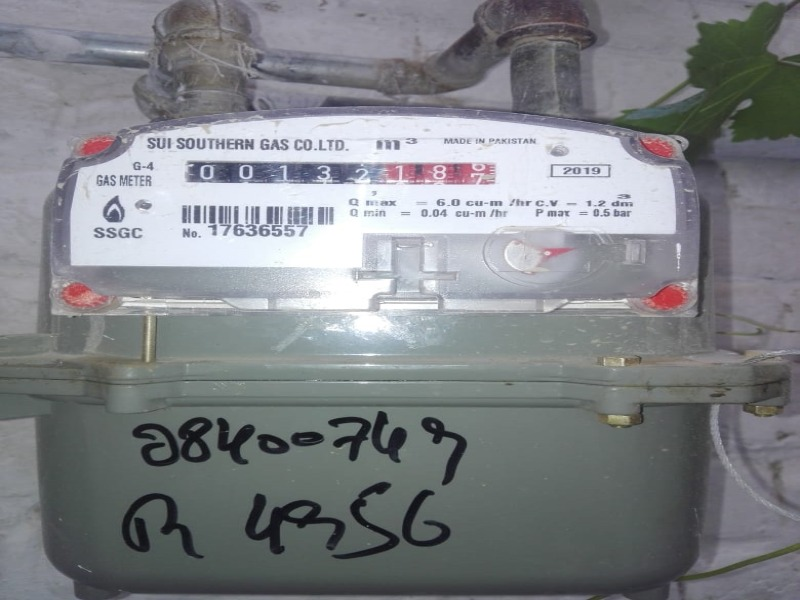ssgc: (180, 156, 502, 193)
